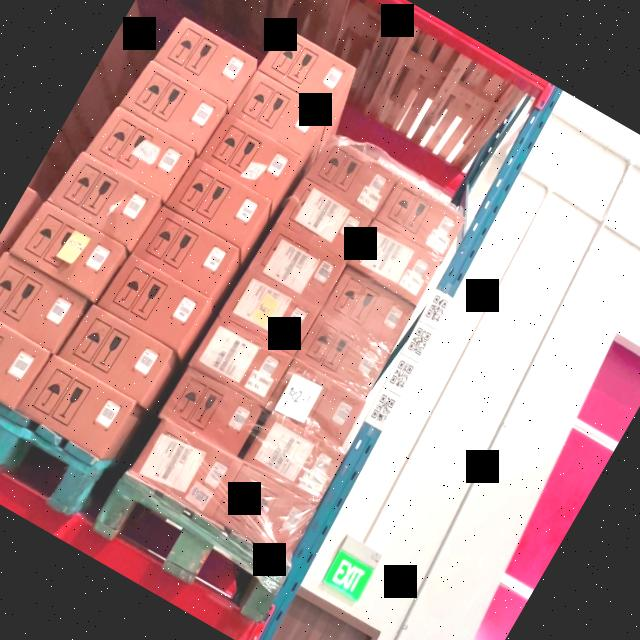box: (208, 458, 321, 566), (130, 416, 240, 516), (158, 363, 266, 463), (214, 270, 318, 366), (269, 358, 372, 449), (276, 174, 376, 266), (320, 263, 418, 355), (246, 226, 346, 316), (190, 317, 290, 406), (304, 134, 402, 224), (246, 410, 344, 498), (372, 176, 470, 260), (298, 311, 392, 394)
